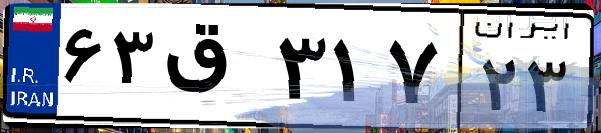1: (330, 28, 385, 110)
2: (475, 38, 525, 113)
3: (270, 28, 330, 110), (525, 38, 570, 115), (110, 28, 158, 98)
6: (57, 26, 110, 100)
7: (385, 28, 445, 110)
ق: (158, 20, 270, 120)
